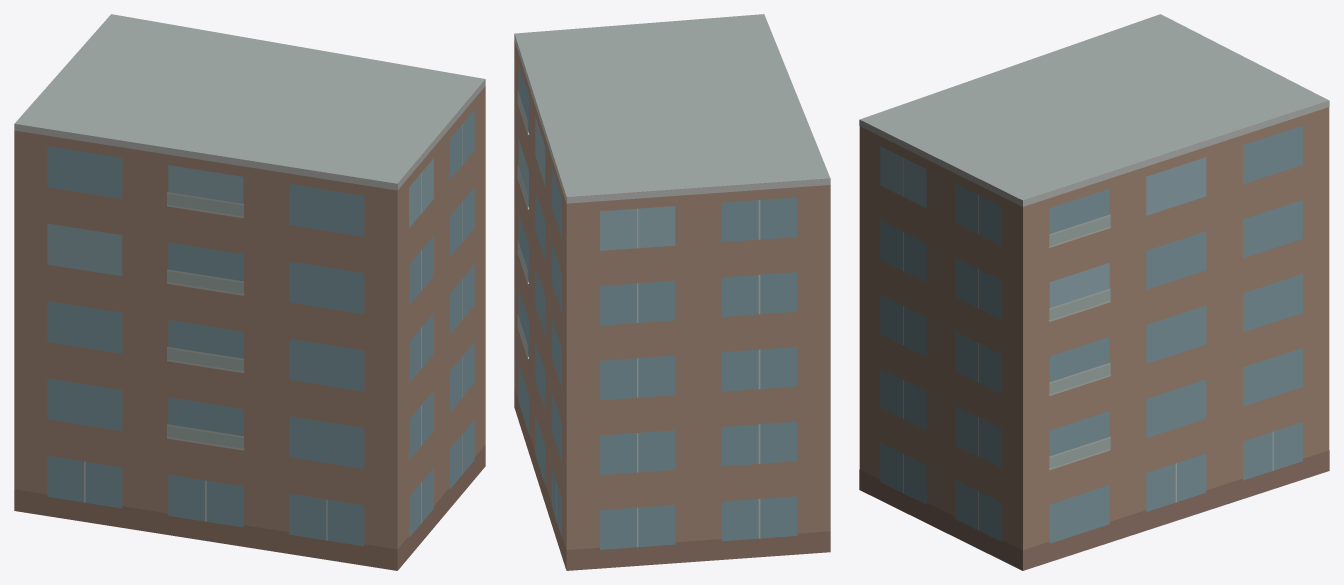
File: survey-upis-32768560.glb
The picture shows the model from 3 angles, left to right: view 1: azimuth 30°, elevation 25°; view 2: azimuth 150°, elevation 25°; view 3: azimuth 270°, elevation 25°; orthographic projection. The views are drawn at different scales.
Visible parts, largest first — view 1: survey-upis-32768560.tmp; view 2: survey-upis-32768560.tmp; view 3: survey-upis-32768560.tmp.
Boxes of the visible parts, x1,y1,x2,y2 form: survey-upis-32768560.tmp: (14,14,485,570); survey-upis-32768560.tmp: (514,14,830,570); survey-upis-32768560.tmp: (859,14,1329,570).
Size of the model in its own units: 15.12 by 14 by 16.1.
